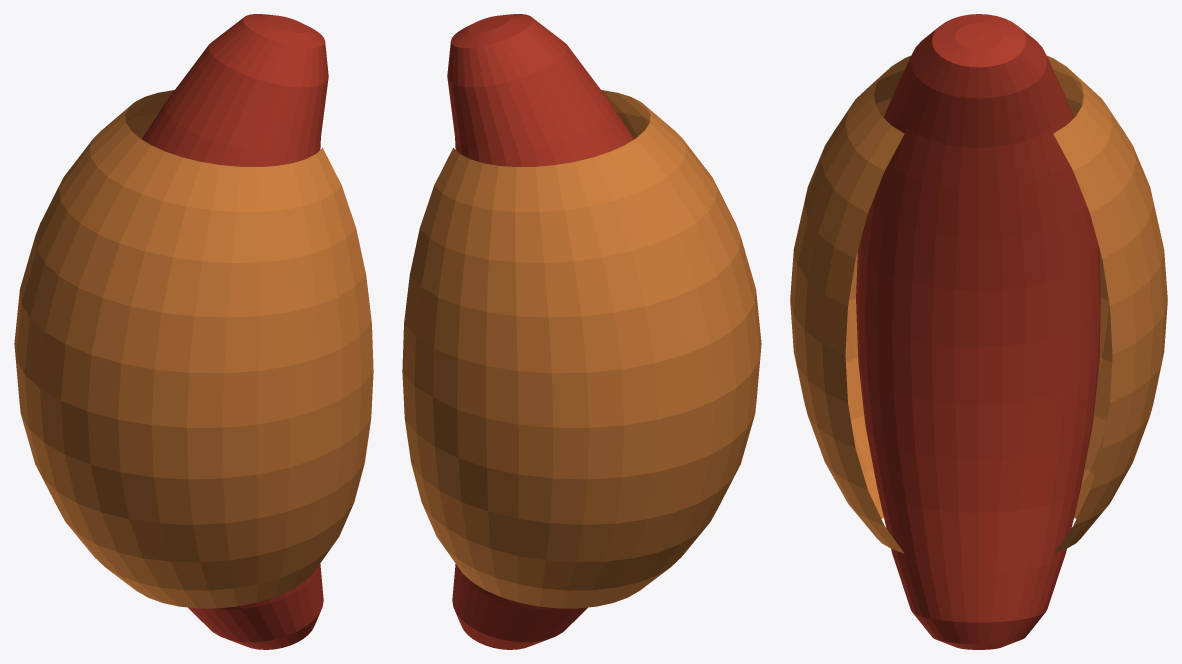
File: basicGLizzy.fbx
3 views of the same model, side by side, from view 1: azimuth 30°, elevation 25°; view 2: azimuth 150°, elevation 25°; view 3: azimuth 270°, elevation 25° (orthographic).
Visible parts, largest first — view 1: Sphere.001, Sphere; view 2: Sphere.001, Sphere; view 3: Sphere, Sphere.001.
Part boxes in pixels (x1,y1,x2,y2): Sphere.001: [14, 90, 373, 608]; Sphere: [141, 14, 328, 649]; Sphere.001: [402, 90, 761, 608]; Sphere: [447, 14, 634, 649]; Sphere: [856, 14, 1100, 649]; Sphere.001: [790, 55, 1167, 553].
Bounding box in the file's own units: 135 × 285 × 156.
